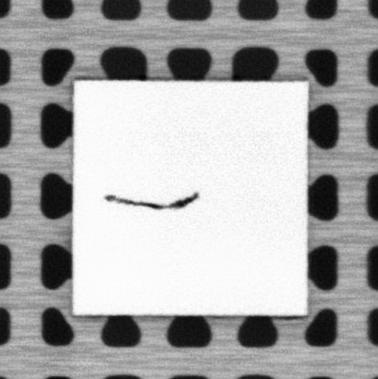DIE_INK: (103, 190, 199, 211)
